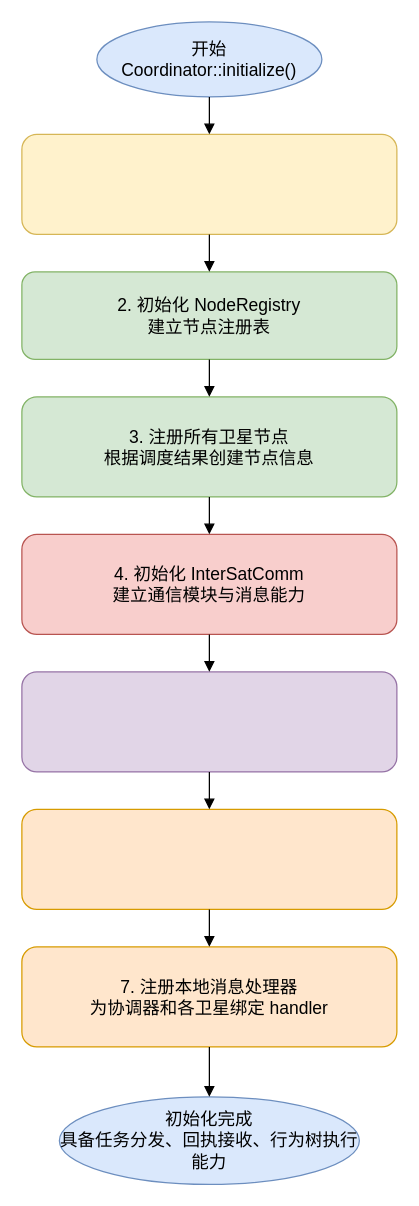
Image size: 419x1206. Some labels were removed from this diagram. The centre of each missing label's shape, as x and y in pixels:
"1. 加载调度文件 读取 schedule.json 得到卫星列表与任务列表" goes at pixel 209 183.
"5. 创建 SatelliteSimulator 为每颗卫星构造模拟器实例" goes at pixel 209 721.
"6. 初始化消息路由表 建立消息类型到处理函数的映射" goes at pixel 209 858.
